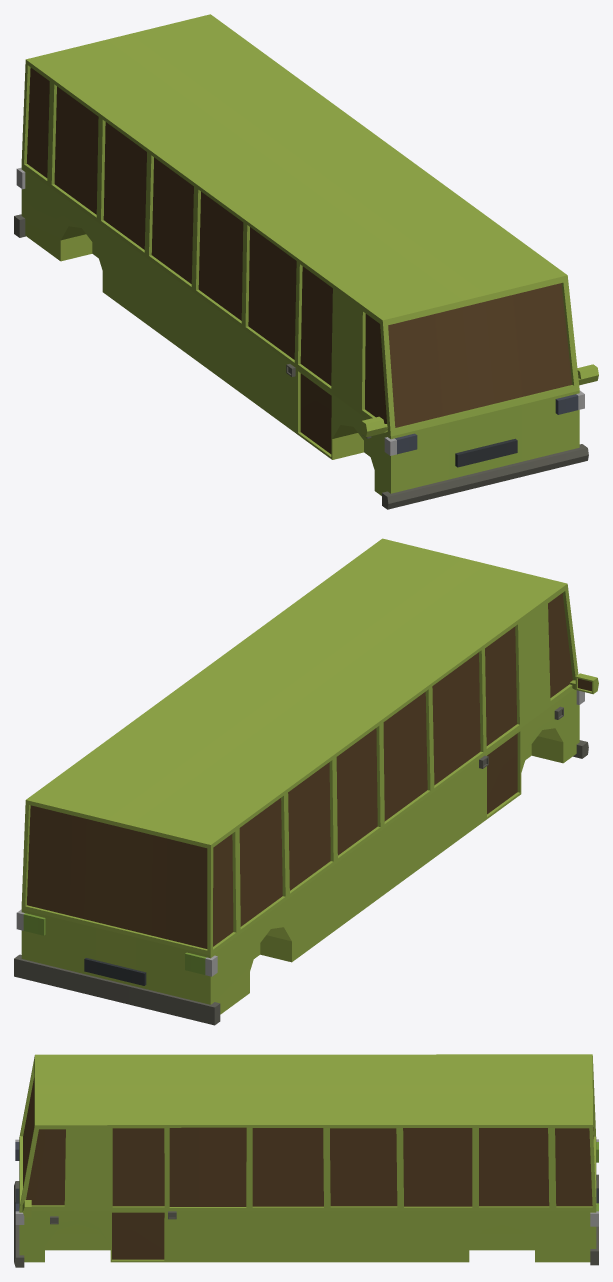
The model's file is Car_13.fbx.
The picture shows the model from 3 angles, top to bottom: view 1: azimuth 30°, elevation 25°; view 2: azimuth 150°, elevation 25°; view 3: azimuth 270°, elevation 25°; orthographic projection. The views are drawn at different scales.
Visible parts, largest first — view 1: Car_13; view 2: Car_13; view 3: Car_13.
Boxes of the visible parts, x1,y1,x2,y2 form: Car_13: (14,14,598,509); Car_13: (14,538,598,1025); Car_13: (14,1054,598,1267).
Bounding box in the file's own units: 2.36 × 1.74 × 6.61.
